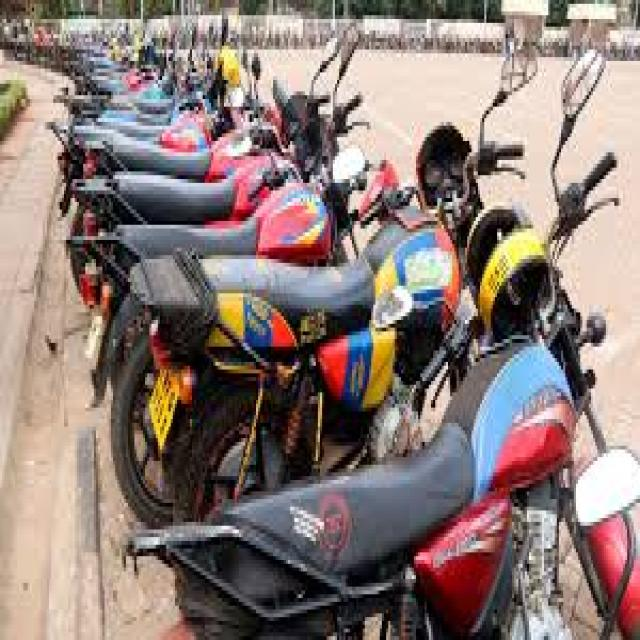bodaboda: (92, 24, 560, 490)
